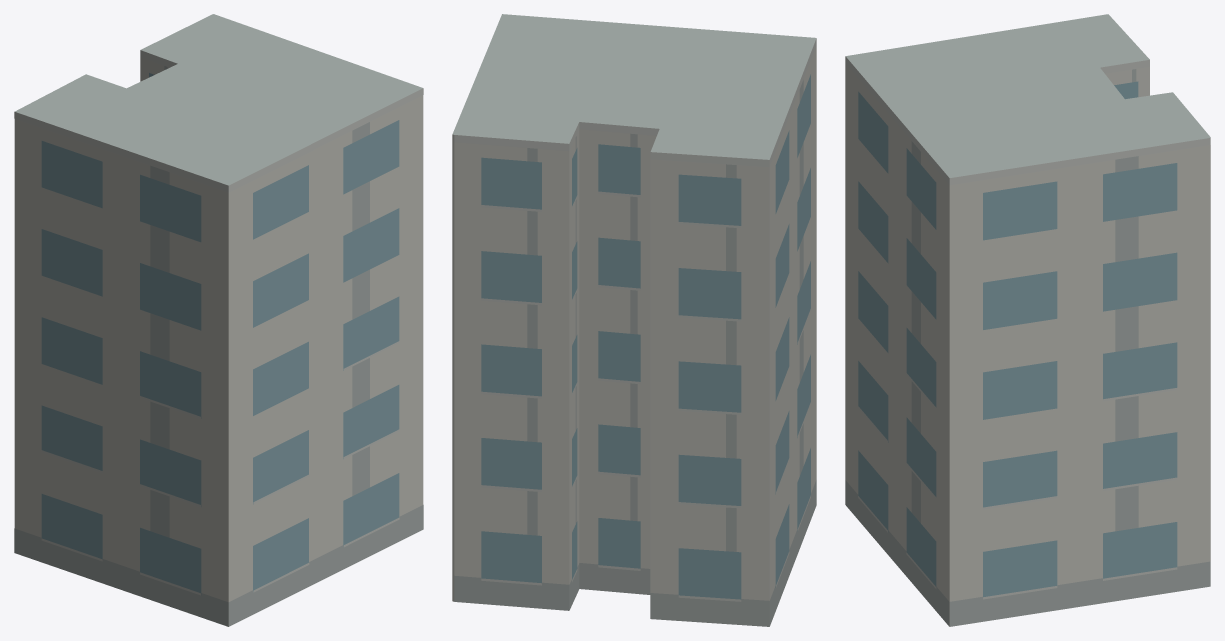
The model's file is survey-upis-32976934.glb.
3 views of the same model, side by side, from view 1: azimuth 30°, elevation 25°; view 2: azimuth 150°, elevation 25°; view 3: azimuth 270°, elevation 25° (orthographic). The views are drawn at different scales.
Parts seen in each view (by area): view 1: survey-upis-32976934.tmp; view 2: survey-upis-32976934.tmp; view 3: survey-upis-32976934.tmp.
Part boxes in pixels (left/top/right/bottom): survey-upis-32976934.tmp: left=14, top=14, right=423, bottom=626; survey-upis-32976934.tmp: left=452, top=14, right=816, bottom=626; survey-upis-32976934.tmp: left=845, top=14, right=1210, bottom=626.
Bounding box in the file's own units: 12.09 × 15.4 × 11.37.
